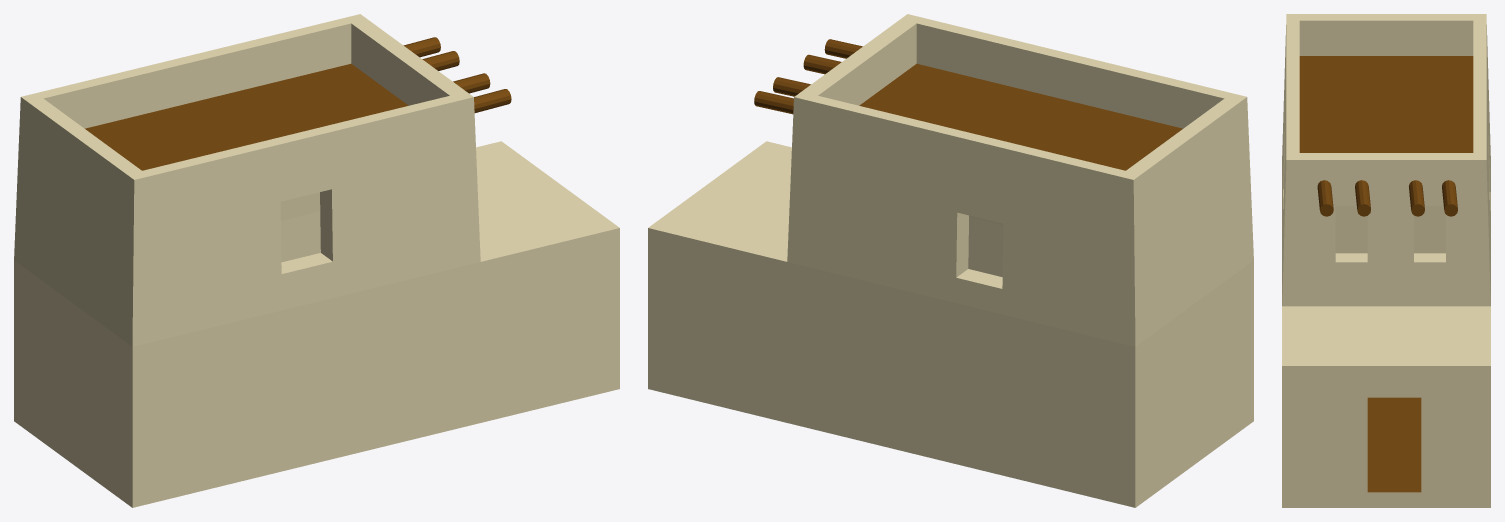
File: shoe.glb
3 views of the same model, side by side, from view 1: azimuth 30°, elevation 25°; view 2: azimuth 150°, elevation 25°; view 3: azimuth 270°, elevation 25° (orthographic). The views are drawn at different scales.
Parts seen in each view (by area): view 1: shoe; view 2: shoe; view 3: shoe.
Boxes of the visible parts, <box> form: shoe: <box>14,14,619,507</box>; shoe: <box>648,14,1253,507</box>; shoe: <box>1282,14,1490,507</box>.
Bounding box in the file's own units: 5.7 × 3.63 × 2.4.
